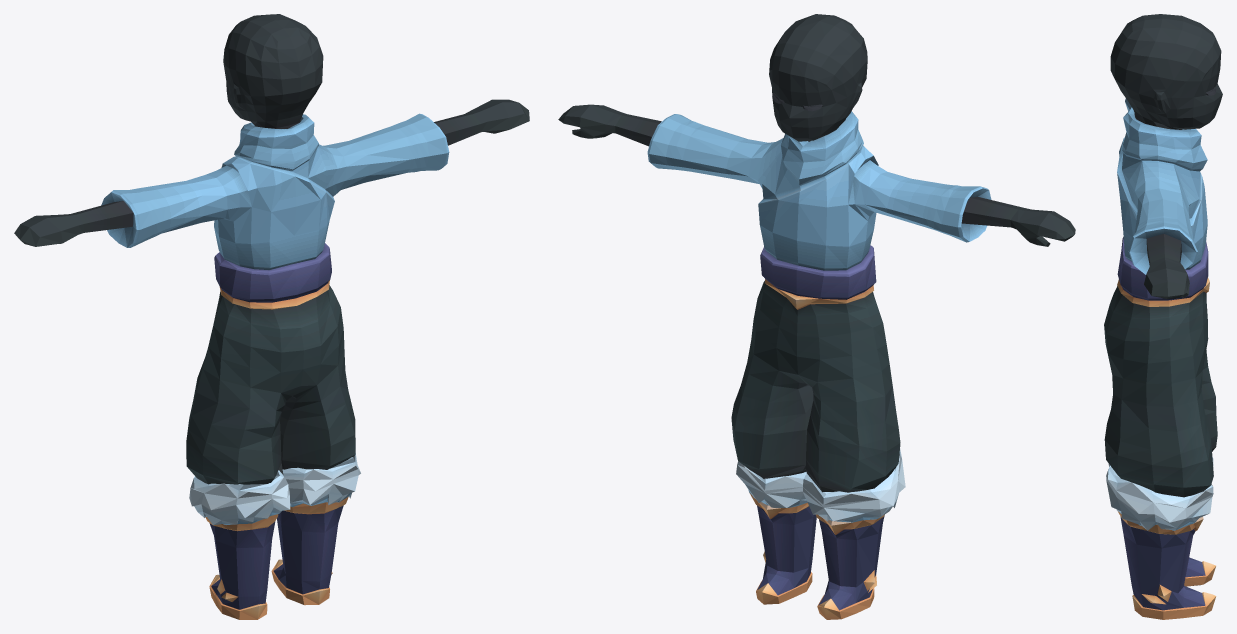
File: CharSkyKid_Body_APMerchantPants_01.glb
The picture shows the model from 3 angles, left to right: view 1: azimuth 30°, elevation 25°; view 2: azimuth 150°, elevation 25°; view 3: azimuth 270°, elevation 25°; orthographic projection.
Visible parts, largest first — view 1: CharSkyKid_Body_APMerchantPants_01; view 2: CharSkyKid_Body_APMerchantPants_01; view 3: CharSkyKid_Body_APMerchantPants_01.
Part boxes in pixels (bbox=[...]): CharSkyKid_Body_APMerchantPants_01: bbox=[14, 14, 529, 619]; CharSkyKid_Body_APMerchantPants_01: bbox=[558, 14, 1075, 619]; CharSkyKid_Body_APMerchantPants_01: bbox=[1104, 14, 1222, 619].
Size of the model in its own units: 13.83 by 14.97 by 2.79.
Materials: 1 (1 with a texture image).
